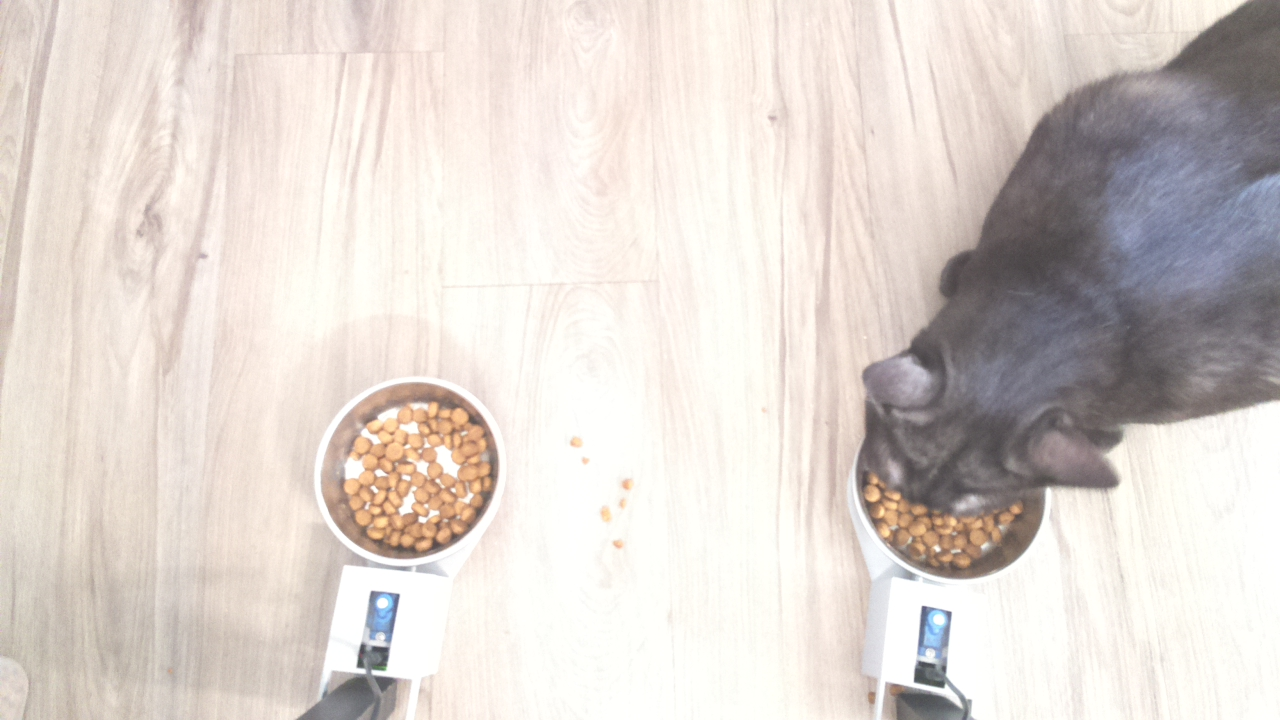open_bowl: (309, 375, 505, 569)
saki_eating: (845, 319, 1136, 590)
